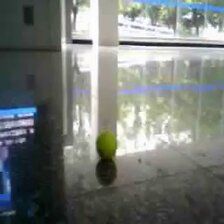tennis: (96, 131, 117, 159)
